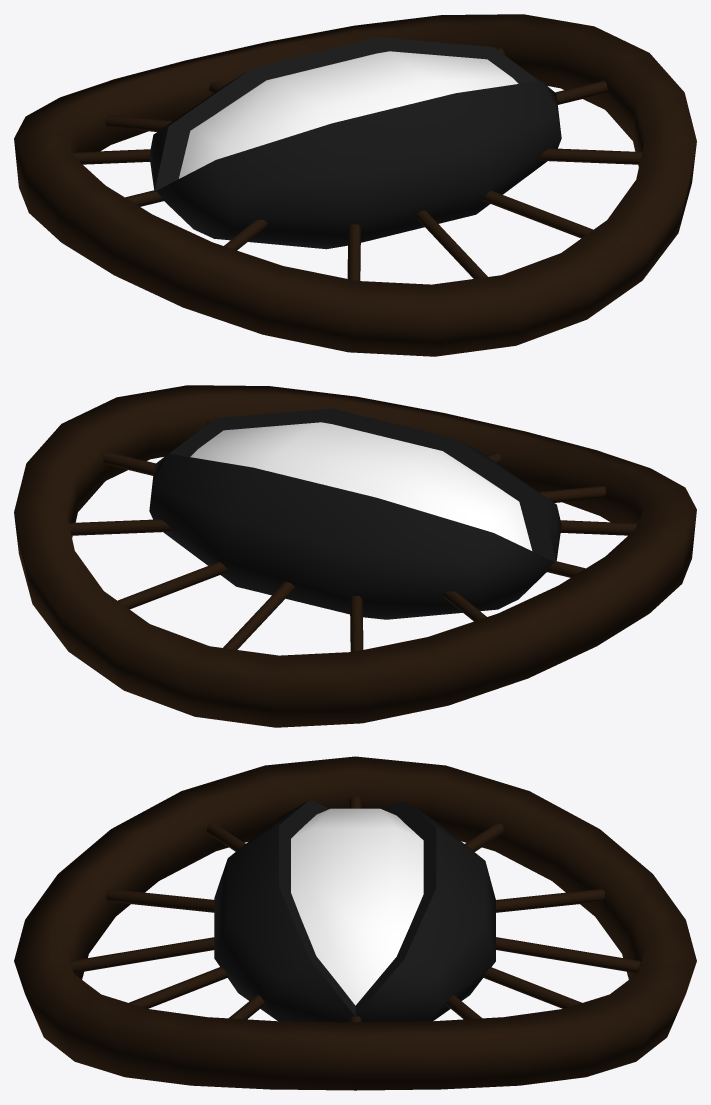
The model's file is BossWheelSplitSmallHurt.FBX.
3 views of the same model, one above another, from view 1: azimuth 30°, elevation 25°; view 2: azimuth 150°, elevation 25°; view 3: azimuth 270°, elevation 25° (orthographic).
Parts seen in each view (by area): view 1: wheelOuter; view 2: wheelOuter; view 3: wheelOuter.
Boxes of the visible parts, left/top/right/bottom form: wheelOuter: left=14, top=14, right=696, bottom=356; wheelOuter: left=14, top=385, right=696, bottom=727; wheelOuter: left=14, top=756, right=696, bottom=1090.
Bounding box in the file's own units: 42.94 × 10.33 × 43.1.
